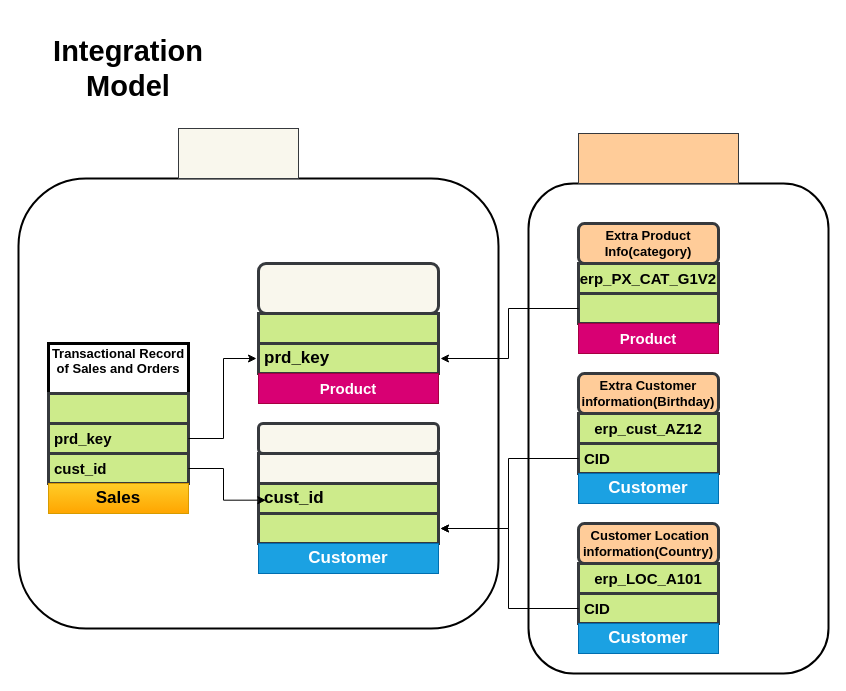
Some shapes in this 846 by 691 pixel diagram are drawn without their labels. Here are the shapes that lost their labels. From the top down, the box of each, then its label:
(178, 128, 298, 178): CRM SOURCE SYSTEM
(578, 132, 738, 184): ERP SOURCE SYSTEM
(256, 262, 440, 314): Current and Previous Product Information
(576, 292, 720, 324): ID
(256, 312, 440, 374): crm_prd_info
(46, 392, 190, 424): crm_sales_details
(256, 422, 440, 454): Customer information details
(256, 452, 440, 544): crm_cust_info
(256, 512, 440, 544): cst_key
